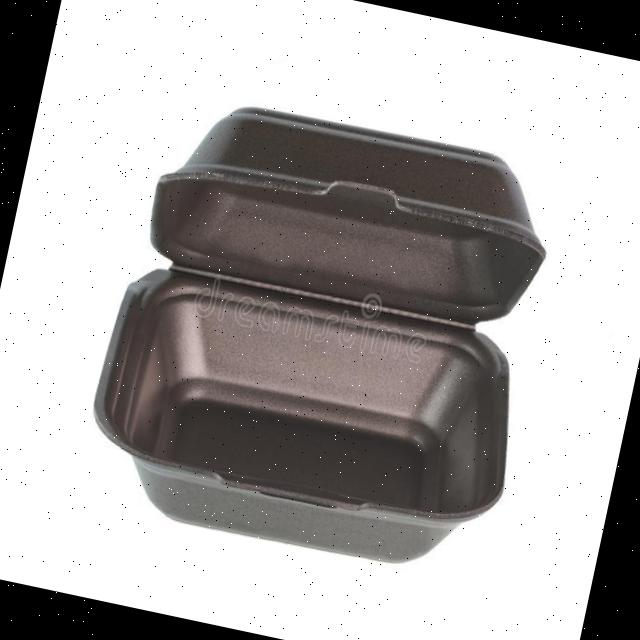styrofoam: (72, 80, 573, 587)
